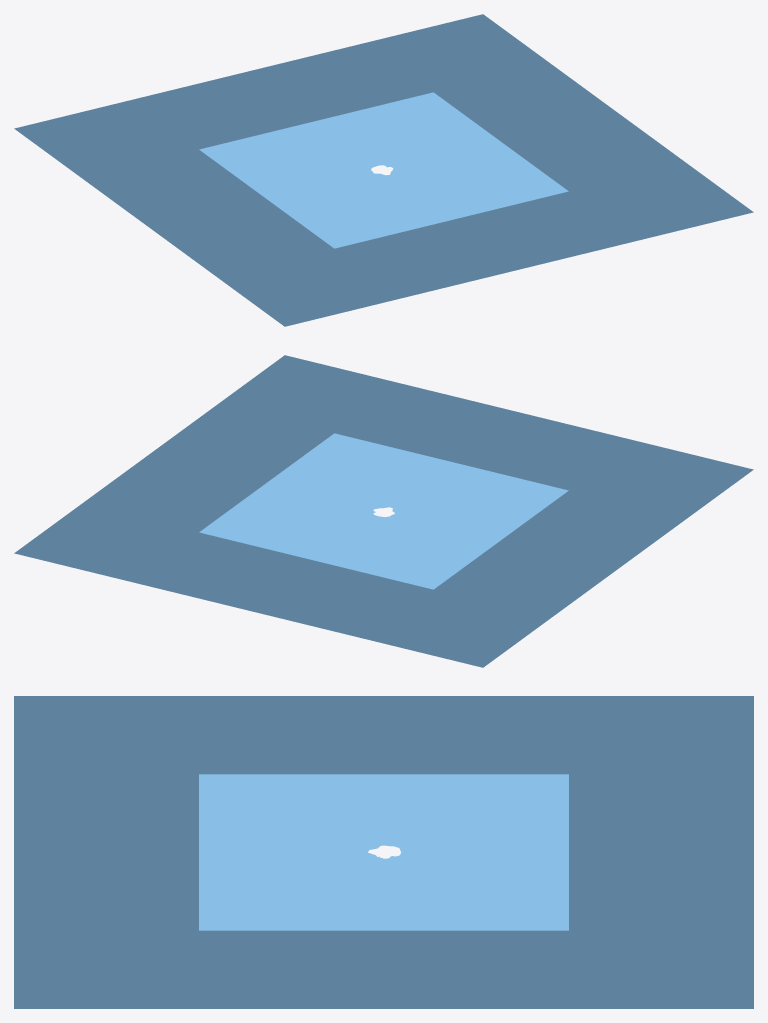
File: world-0-water.glb
3 views of the same model, one above another, from view 1: azimuth 30°, elevation 25°; view 2: azimuth 150°, elevation 25°; view 3: azimuth 270°, elevation 25° (orthographic). The views are drawn at different scales.
Parts seen in each view (by area): view 1: world-0-water; view 2: world-0-water; view 3: world-0-water.
Boxes of the visible parts, box(x1,y1,x2,y2) form: world-0-water: box(14, 14, 753, 326); world-0-water: box(14, 355, 753, 667); world-0-water: box(14, 696, 753, 1008).
Bounding box in the file's own units: 24576 × 0 × 24576.
2 materials, 2 textured.
